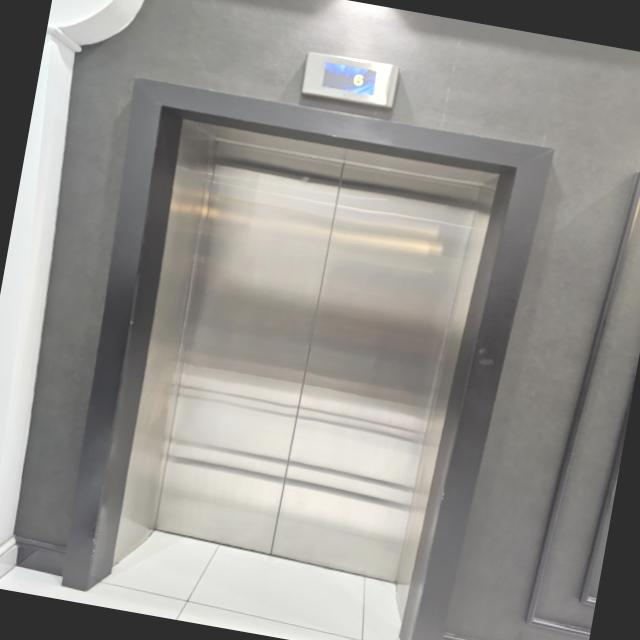elevator: (24, 60, 571, 640)
